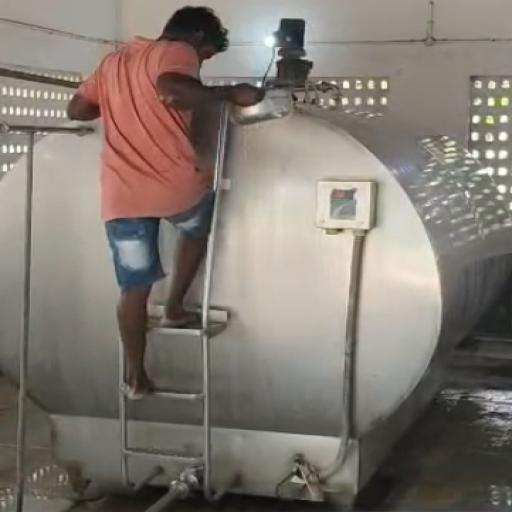silo: (0, 100, 511, 503)
vessel: (227, 86, 295, 126)
